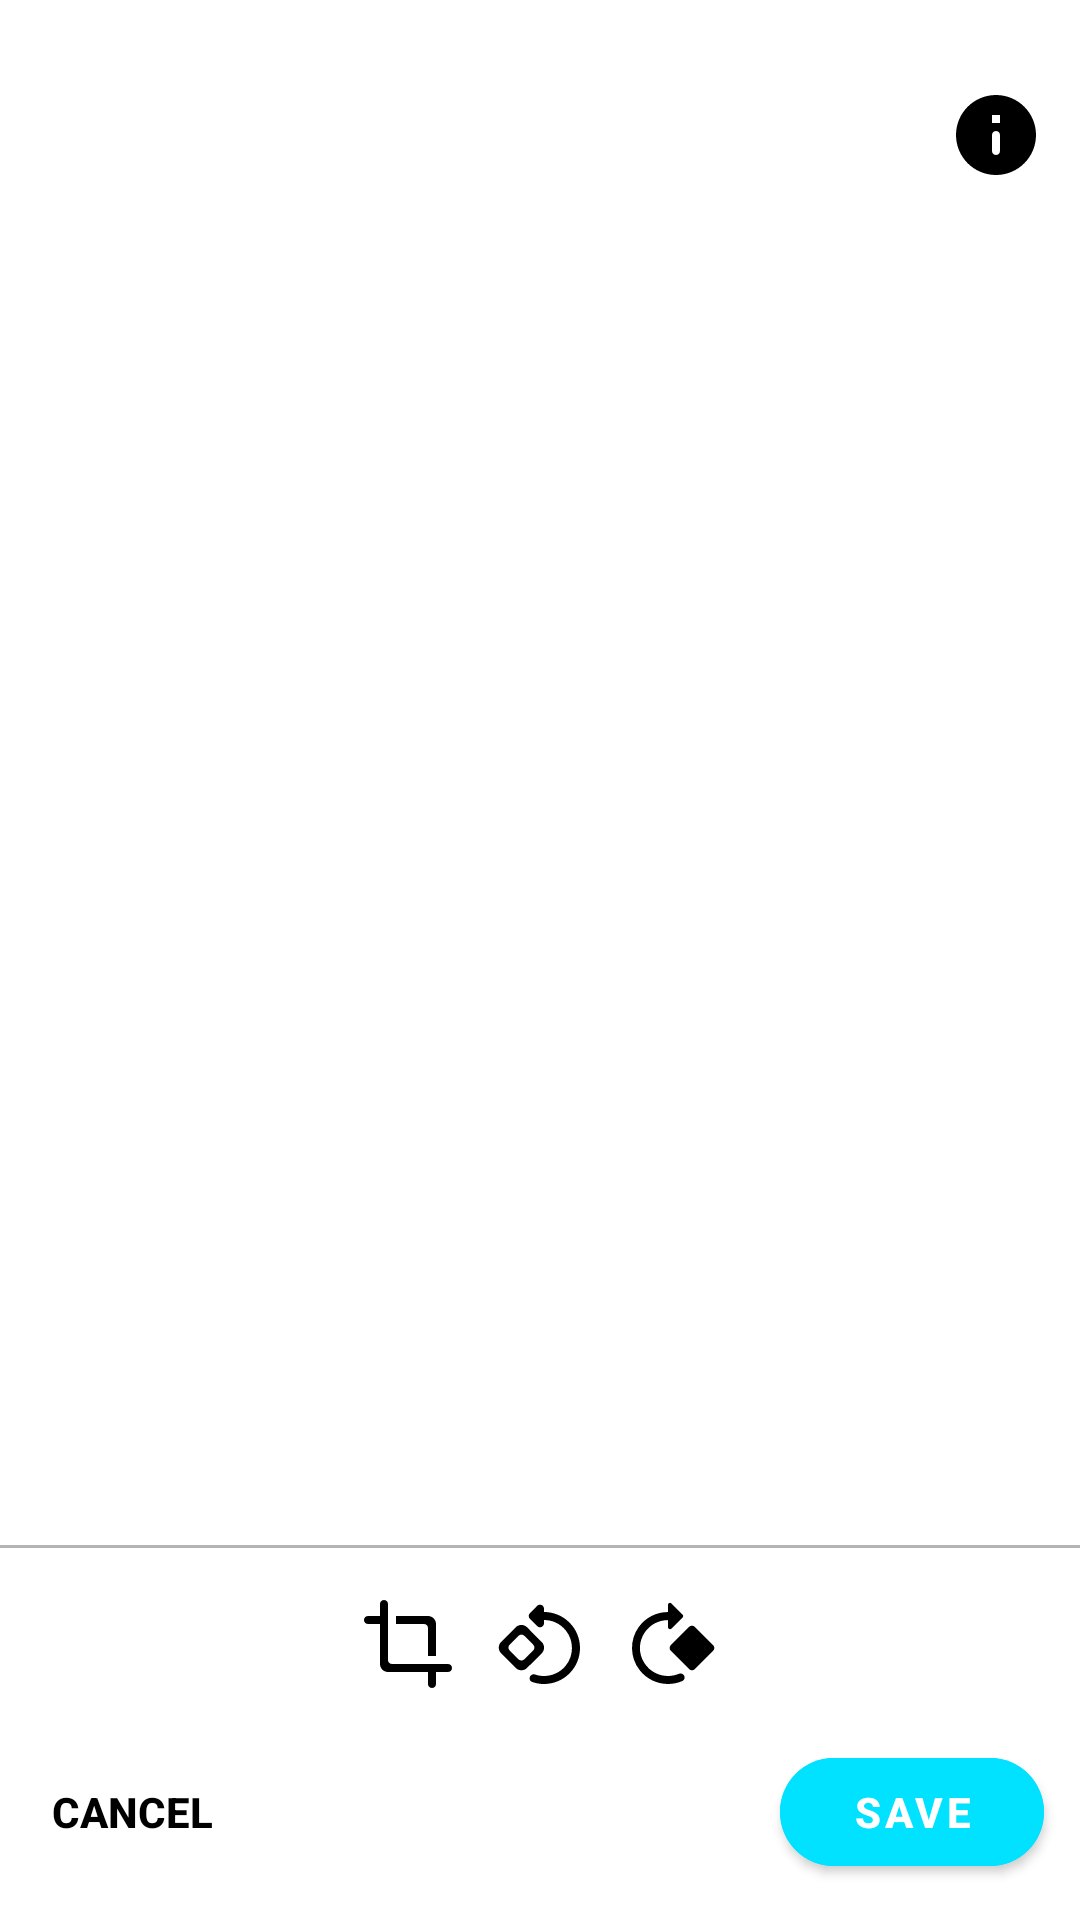

Icon click points for this 1080px x 1920px phone screenshot, format [x,y]:
crop: [408,1644]
info: [996,135]
rotate left: [539,1644]
rotate right: [673,1643]
